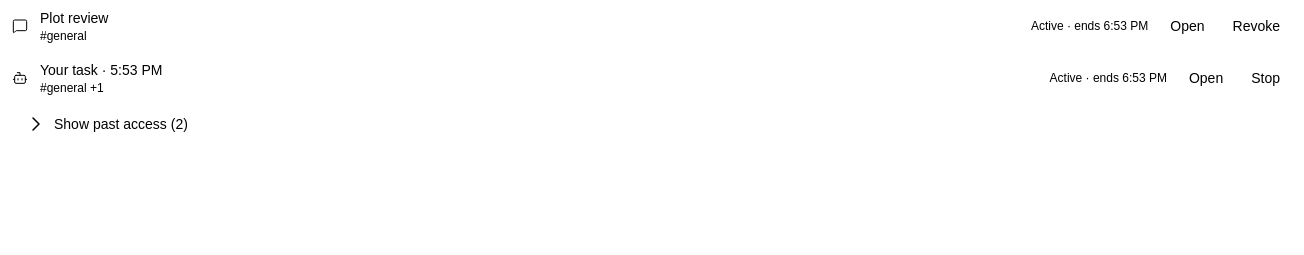
the Access tab › lists this channel’s chats with Revoke and tasks with Stop, and folds revoked and expired rows
The image size is (1304, 255).
Expected: the list item with test id "crew-access-row" shows "#general", [40,29,87,43]
Expected: the button with aria-label "Revoke access for Plot review" is shown, [1220,16,1292,36]
Click the button "Show past access (2)" at (106, 124), box [12,112,200,136]
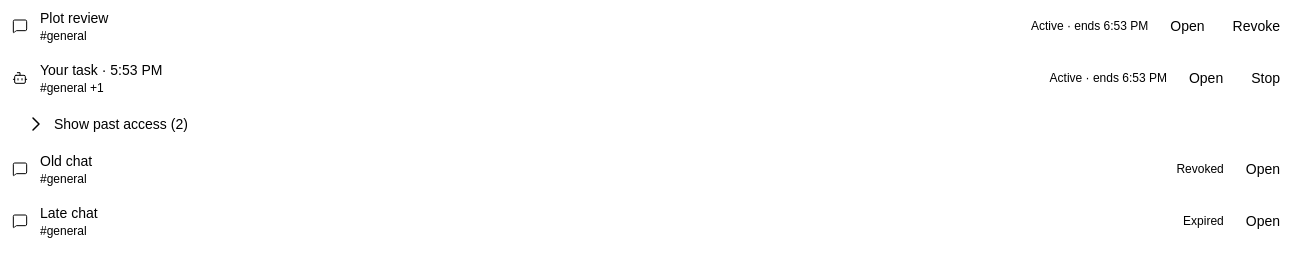
Result: the list item with test id "crew-access-row" shows "Revoked" at [1176,162,1224,176]
Result: the list item with test id "crew-access-row" shows "Expired" at [1183,214,1224,228]
